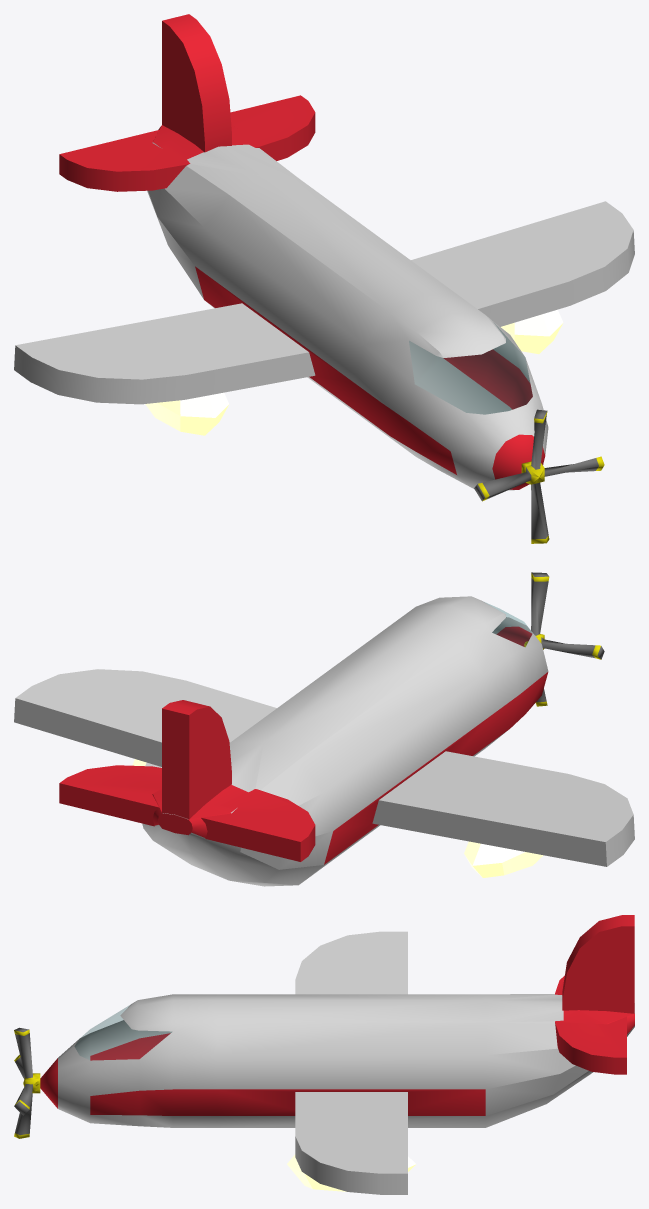
The model's file is avion.fbx.
3 views of the same model, one above another, from view 1: azimuth 30°, elevation 25°; view 2: azimuth 150°, elevation 25°; view 3: azimuth 270°, elevation 25° (orthographic). The views are drawn at different scales.
Visible parts, largest first — view 1: Cylinder.001, Cube.023; view 2: Cylinder.001, Cube.023; view 3: Cylinder.001, Cube.023.
Boxes of the visible parts, x1,y1,x2,y2 form: Cylinder.001: (14, 14, 634, 490); Cube.023: (474, 409, 604, 543); Cylinder.001: (14, 596, 634, 886); Cube.023: (524, 572, 604, 706); Cylinder.001: (40, 915, 634, 1194); Cube.023: (14, 1027, 40, 1138).
Bounding box in the file's own units: 858 × 357 × 926.
